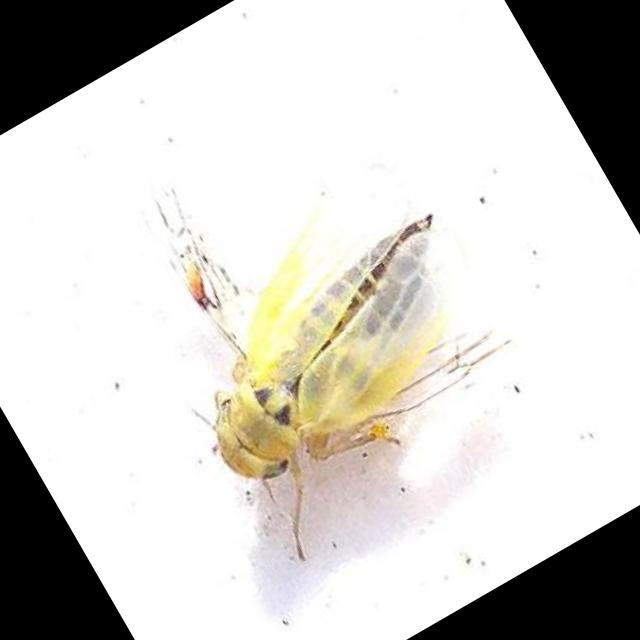green-leafhopper: (113, 122, 556, 550)
